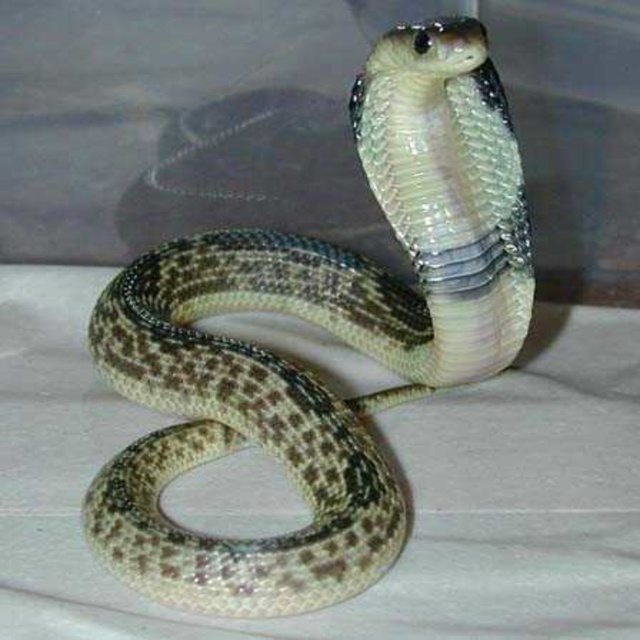Snake: (80, 12, 537, 619)
